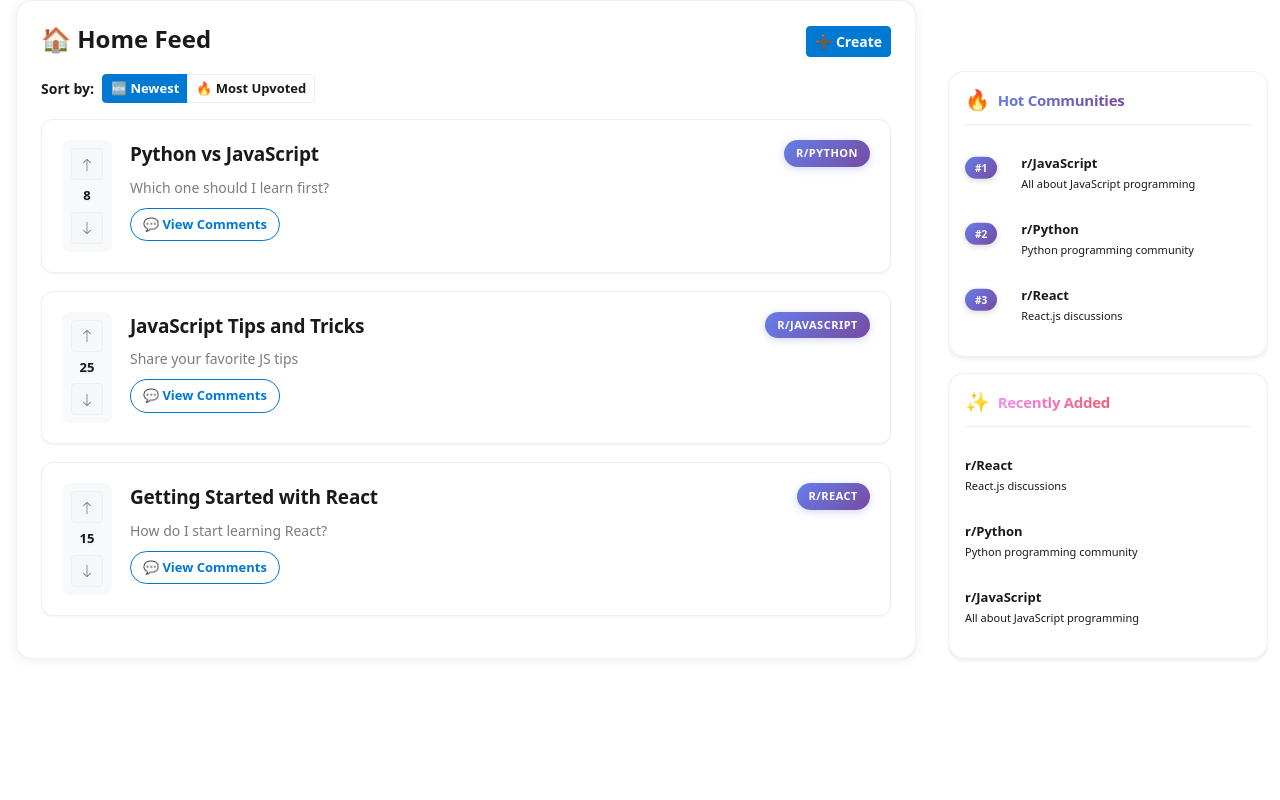
Test: Thread UI workflow › applies server-returned upvotes and downvotes to a visible thread
The image size is (1280, 800).
Expected: the text "15" is shown, [80, 529, 94, 549]
What coordinates should you click on to do the following:
click the button named "Upvote item" next to "Getting Started with React"
I would click on:
 (87, 507)
Its box is [71, 491, 103, 523].
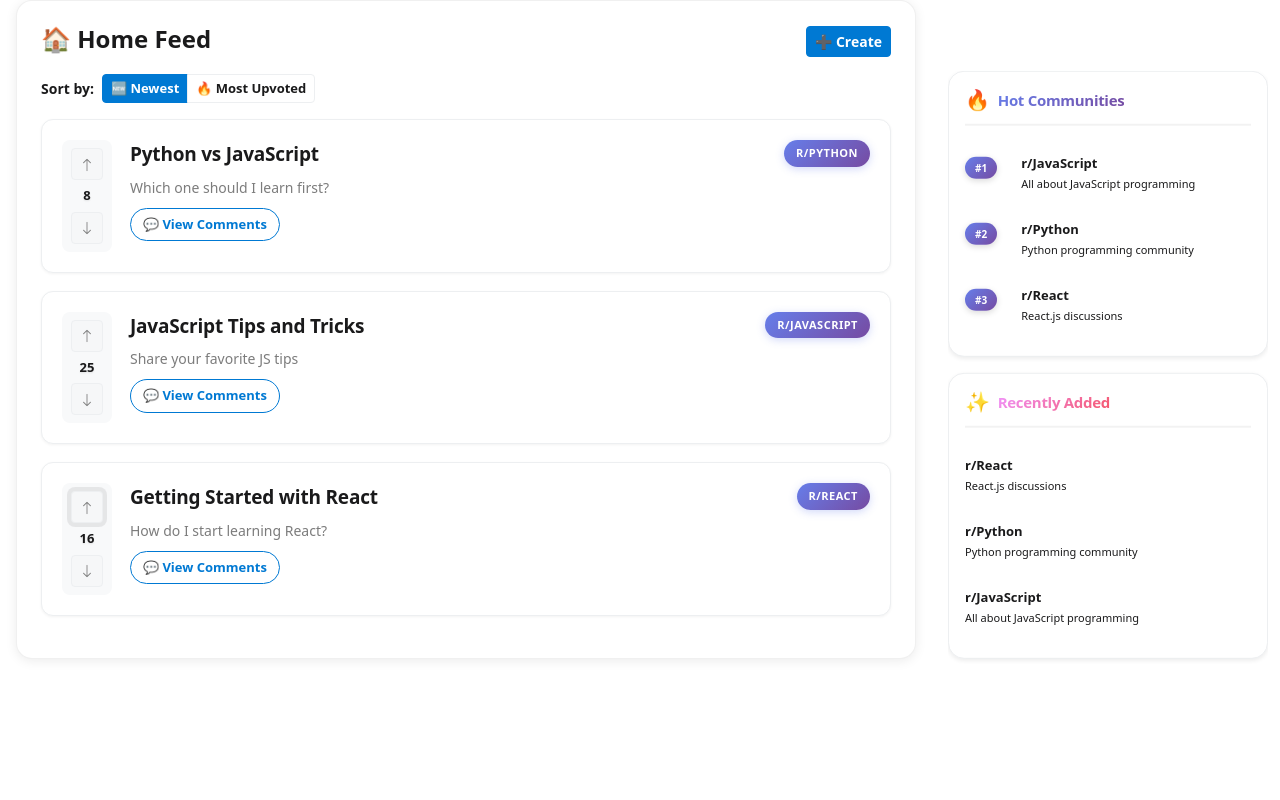
Expected: the text "16" is shown, [80, 529, 94, 549]
What coordinates should you click on to do the following:
click the button named "Downvote item" below "16"
I would click on:
 (87, 571)
Its box is [71, 555, 103, 587].
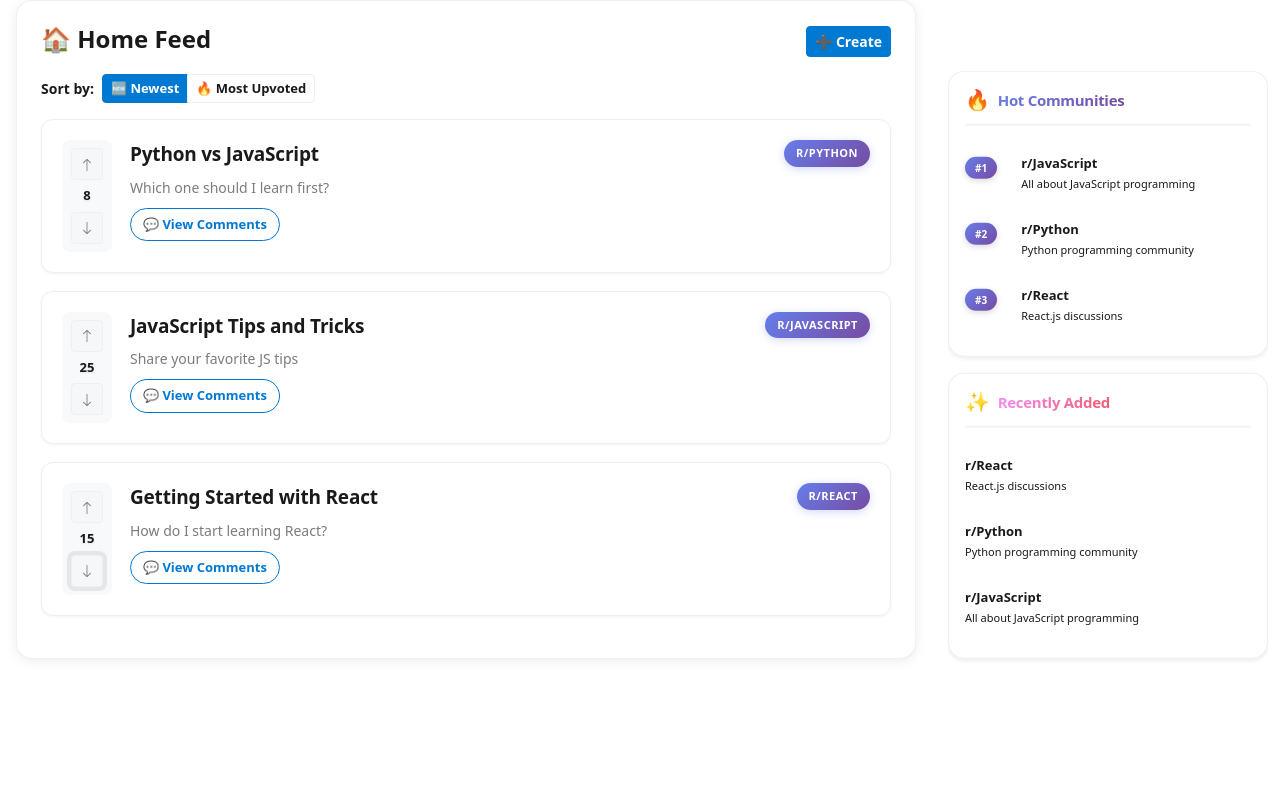
Expected: the text "15" is shown, [80, 529, 94, 549]
